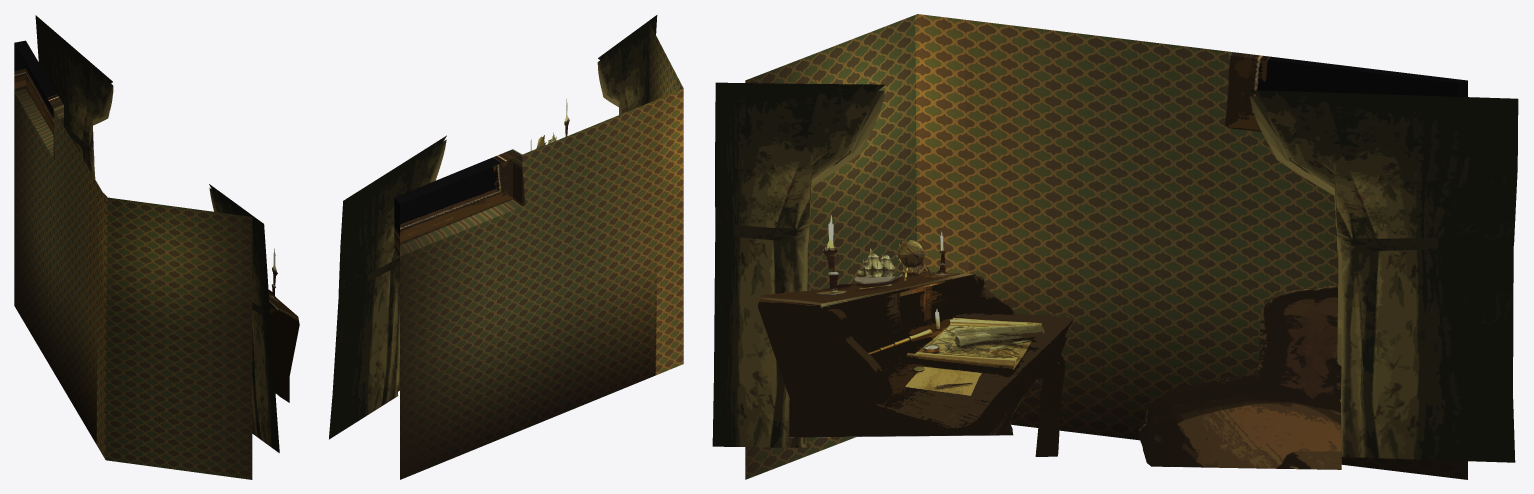
File: 39randomsteps.fbx
The picture shows the model from 3 angles, left to right: view 1: azimuth 30°, elevation 25°; view 2: azimuth 150°, elevation 25°; view 3: azimuth 270°, elevation 25°; orthographic projection. The views are drawn at different scales.
Parts seen in each view (by area): view 1: pPlane1, pPlane5, pPlane6, pPlane3; view 2: pPlane1, pPlane5, pPlane6; view 3: pPlane1, pPlane5, pPlane3, pPlane6, pPlane4.
Part boxes in pixels (x1,y1,x2,y2): pPlane1: (14,40,252,479); pPlane5: (35,15,113,178); pPlane6: (209,184,279,452); pPlane3: (268,248,299,402); pPlane1: (394,23,683,479); pPlane5: (329,135,446,439); pPlane6: (597,15,657,114); pPlane1: (745,14,1467,479); pPlane5: (1250,90,1518,462); pPlane3: (757,214,1073,456); pPlane6: (712,82,884,447); pPlane4: (1138,285,1341,469).
Size of the model in its own units: 3.13 by 5.63 by 10.03.
Materials: 4 (4 with a texture image).
